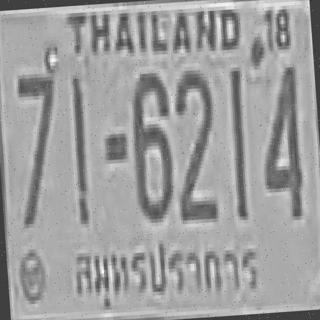N01: (226, 65, 249, 218), (70, 72, 90, 222)
N02: (170, 66, 218, 220)
N04: (256, 63, 304, 218)
N06: (128, 69, 175, 220)
N07: (14, 69, 62, 224)
P57: (65, 227, 265, 317)
